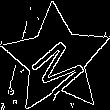M_NE: (23, 26, 89, 93)
